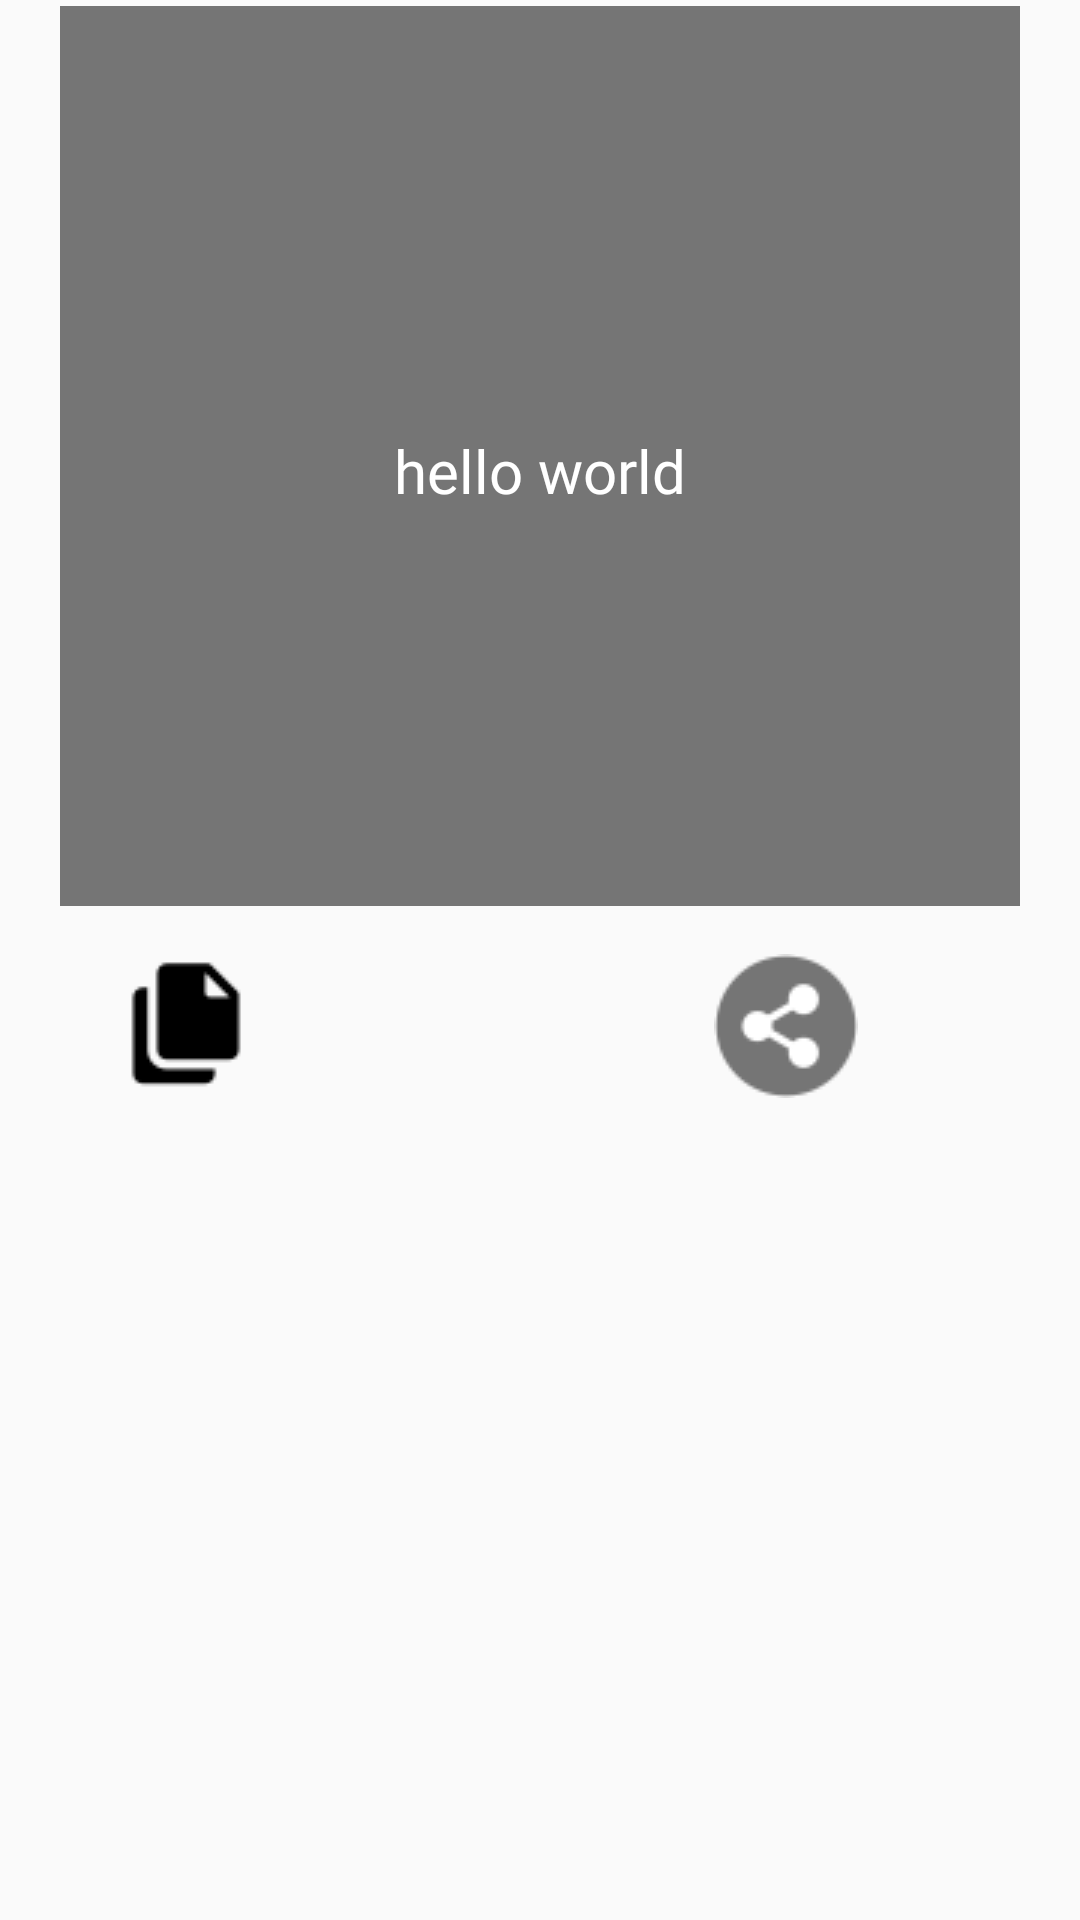

Screen size 1080px×1920px. Icon name, then its box in pixels as box=[x1, y1, x2, y2]:
share: box=[714, 954, 858, 1098]
